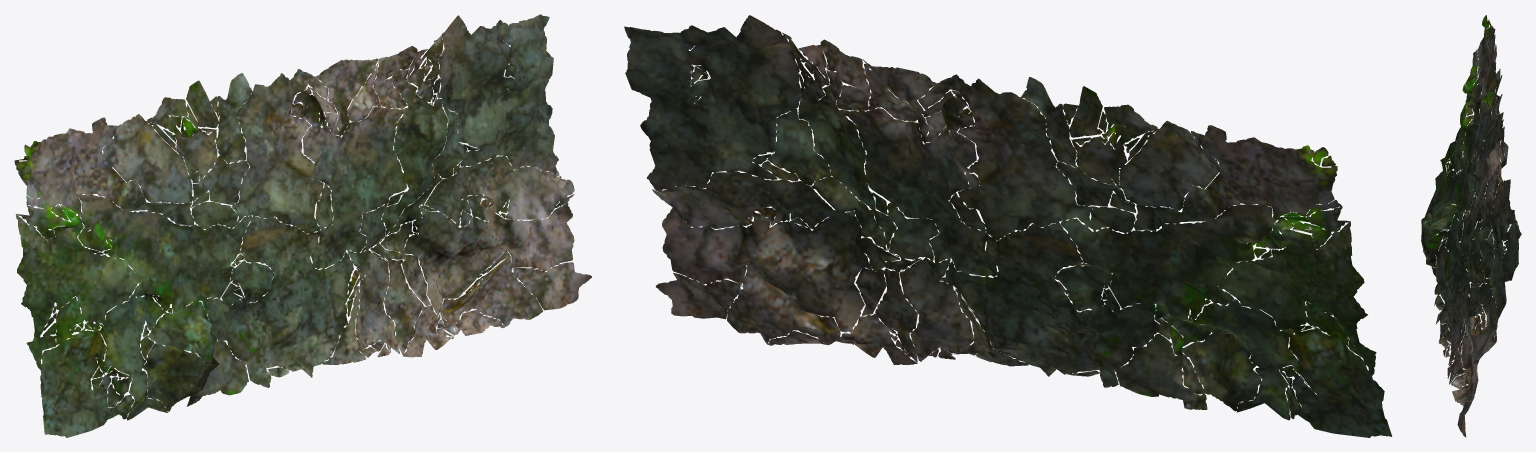
The model's file is groundhi.obj.
3 views of the same model, side by side, from view 1: azimuth 30°, elevation 25°; view 2: azimuth 150°, elevation 25°; view 3: azimuth 270°, elevation 25° (orthographic). The views are drawn at different scales.
Size of the model in its own units: 4.43 by 2.2 by 0.8553.
1 material, 1 textured.
